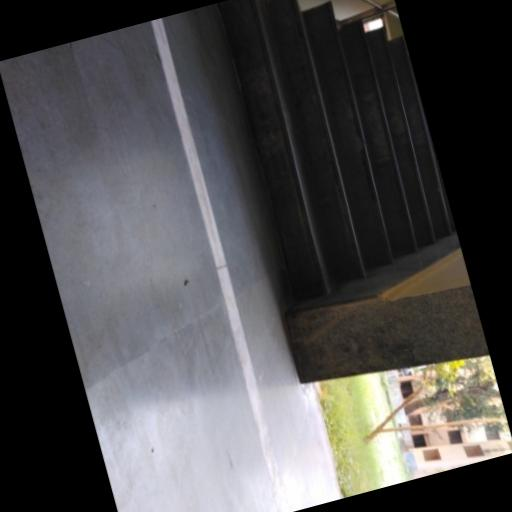stairs: (219, 0, 453, 298)
